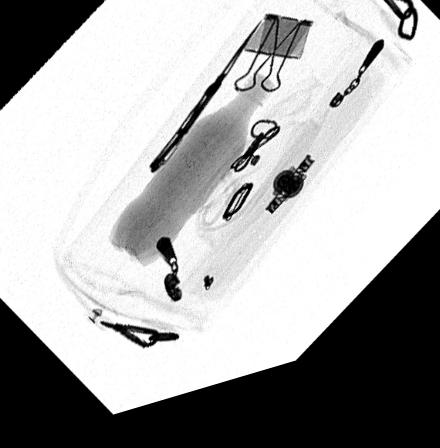Knife: (147, 34, 264, 182)
